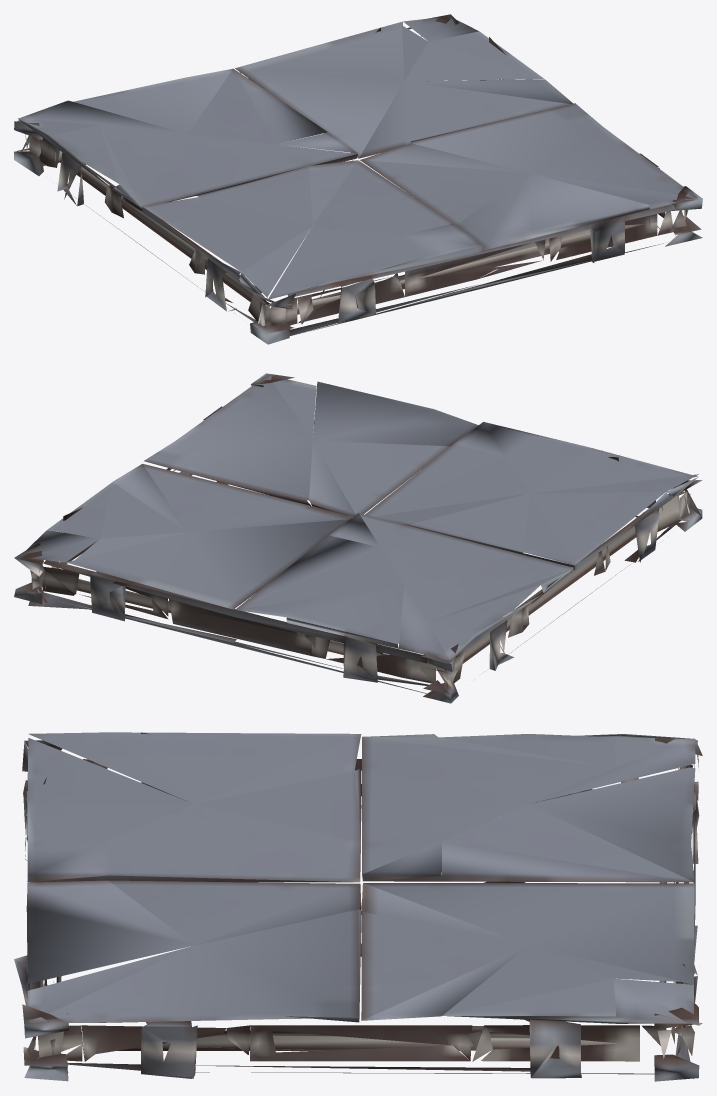
The model's file is Ceiling_Metal_C.glb.
3 views of the same model, one above another, from view 1: azimuth 30°, elevation 25°; view 2: azimuth 150°, elevation 25°; view 3: azimuth 270°, elevation 25° (orthographic). The views are drawn at different scales.
Visible parts, largest first — view 1: SM_Metal_CeilingSquare; view 2: SM_Metal_CeilingSquare; view 3: SM_Metal_CeilingSquare.
Boxes of the visible parts, box(x1,y1,x2,y2) form: SM_Metal_CeilingSquare: box(14, 14, 702, 344); SM_Metal_CeilingSquare: box(14, 373, 702, 703); SM_Metal_CeilingSquare: box(14, 732, 702, 1081).
Size of the model in its own units: 3.08 by 0.4234 by 3.09.
1 material, 1 textured.
